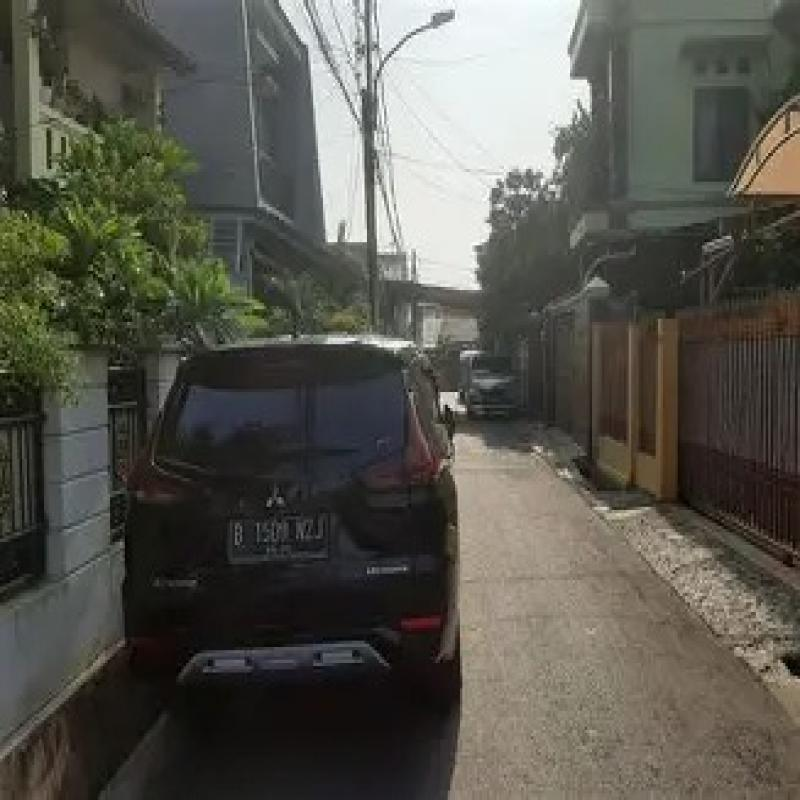license plate on a car: (232, 498, 341, 561)
